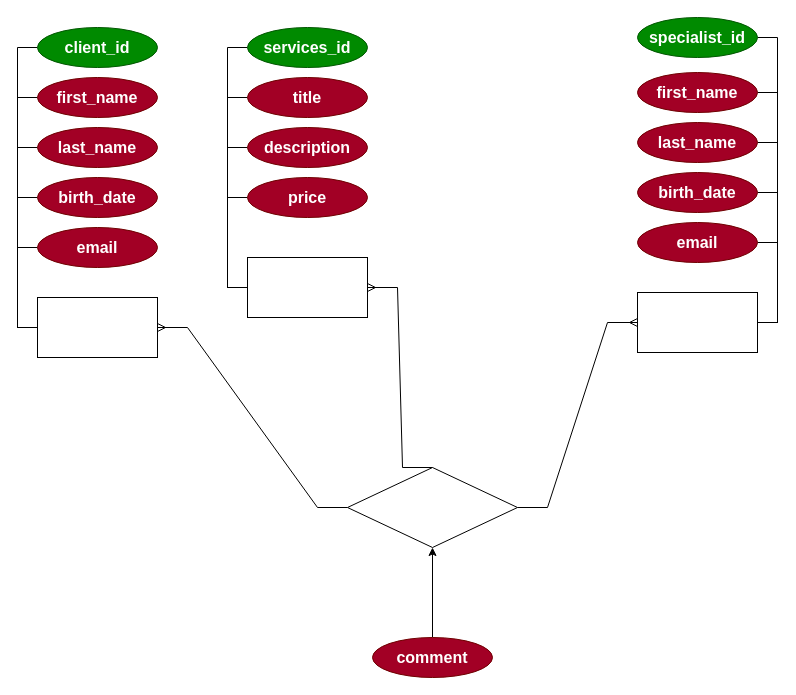
Image size: 796x695. Some labels were removed from this diagram. The shapes that lost their labels are listed below. From the top down, each one's box as (x1, y1, x2, y2) in pixels, then its label:
(246, 256, 368, 318): Services
(36, 296, 158, 358): Clients
(636, 292, 758, 352): Specialists
(346, 466, 518, 548): Records
